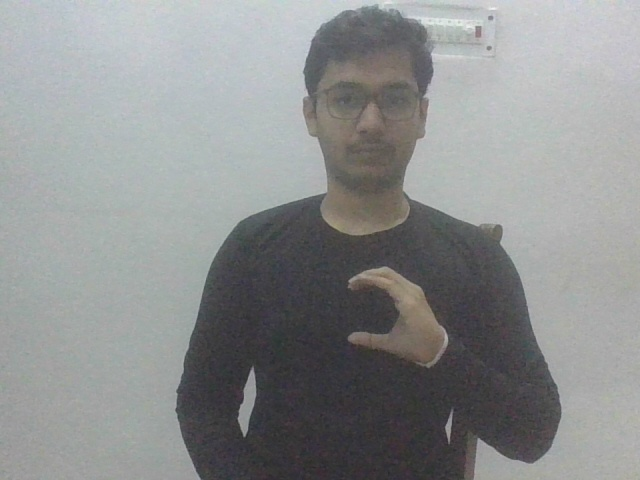C: (340, 258, 449, 370)
